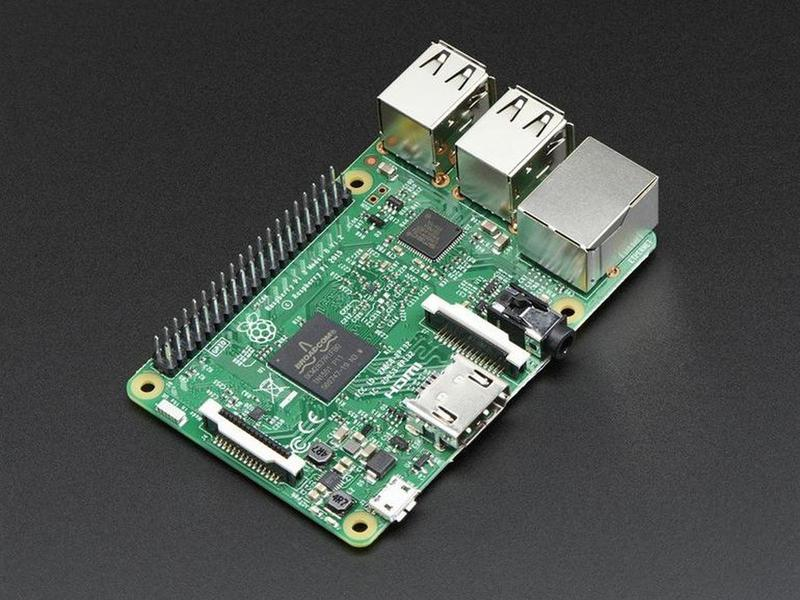Raspberry_Pi_3: (114, 38, 681, 560)
